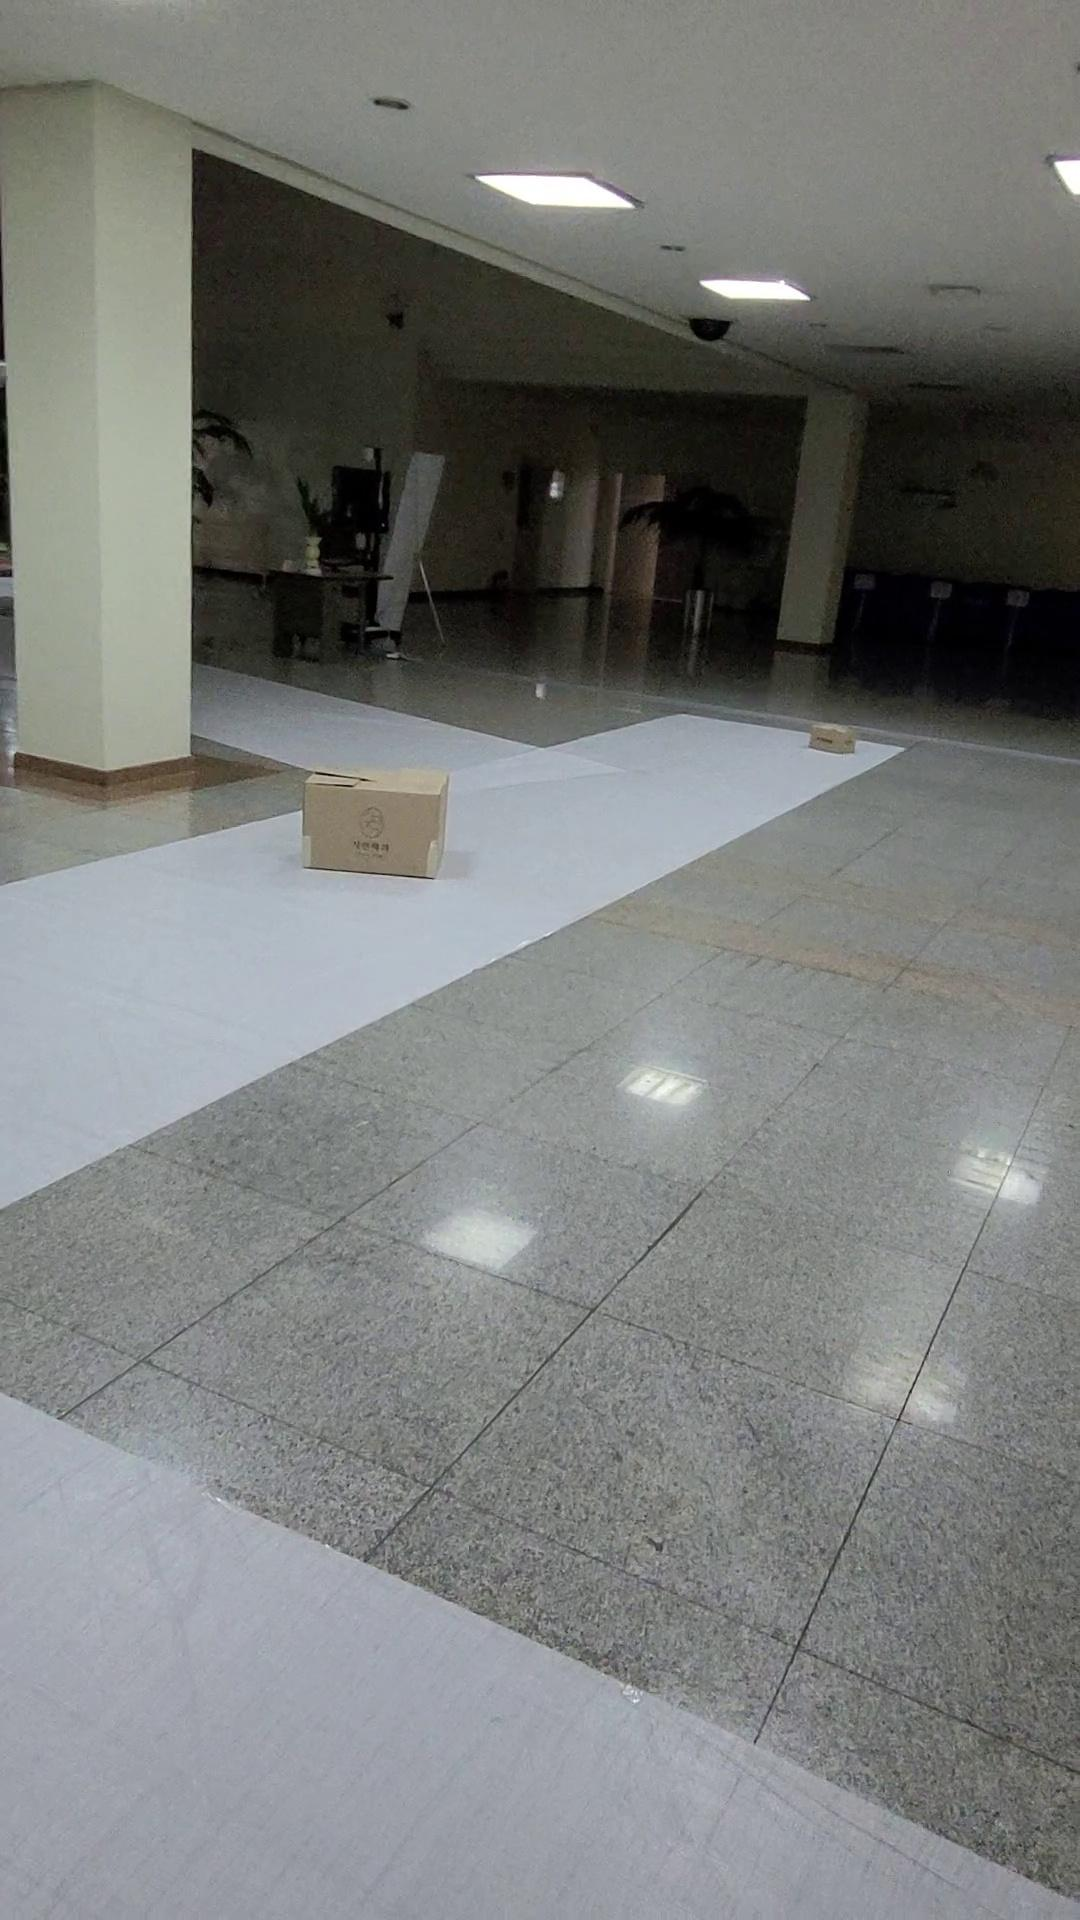Box: (295, 760, 473, 890), (803, 709, 864, 765)
